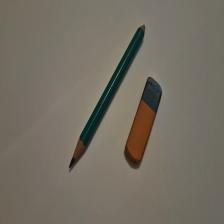eraser: (125, 77, 163, 164)
pencil: (70, 25, 146, 169)
